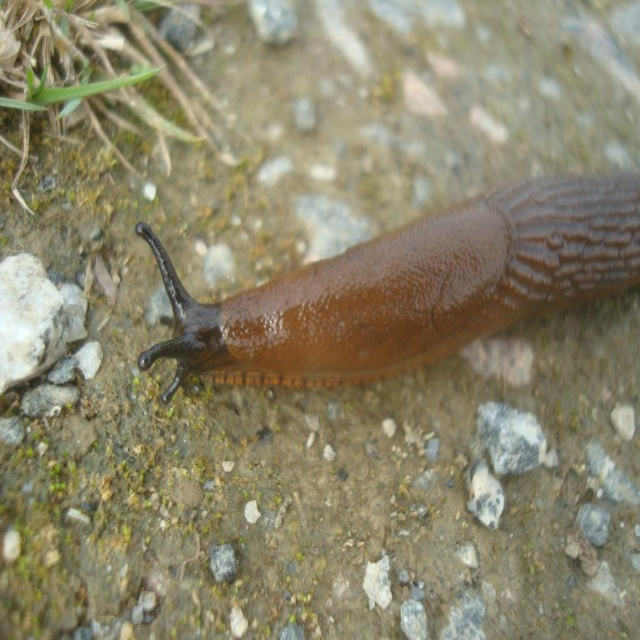Snail: (132, 172, 640, 404)
